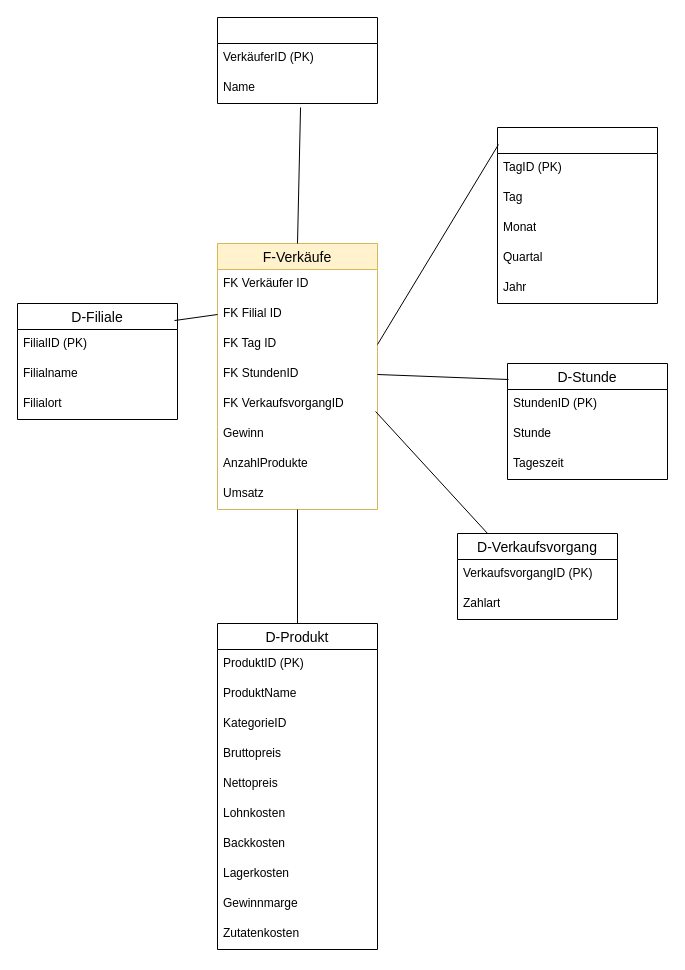
This 685x970 diagram has some shape labels left out. The box of each missing label's shape, as (x1, y1, x2, y2) in pixels:
D-Tag: (496, 126, 658, 304)
D-Verkäufer: (216, 16, 378, 104)
